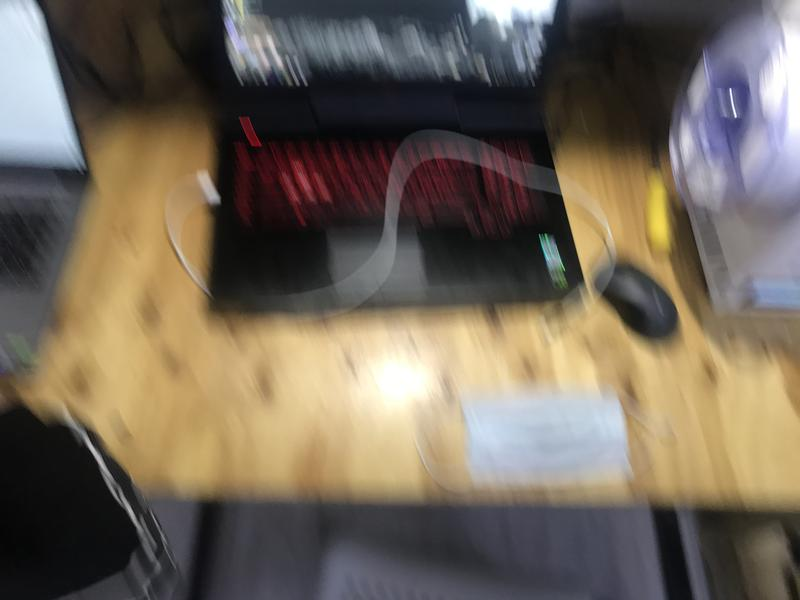medical_mask: (464, 391, 629, 491)
